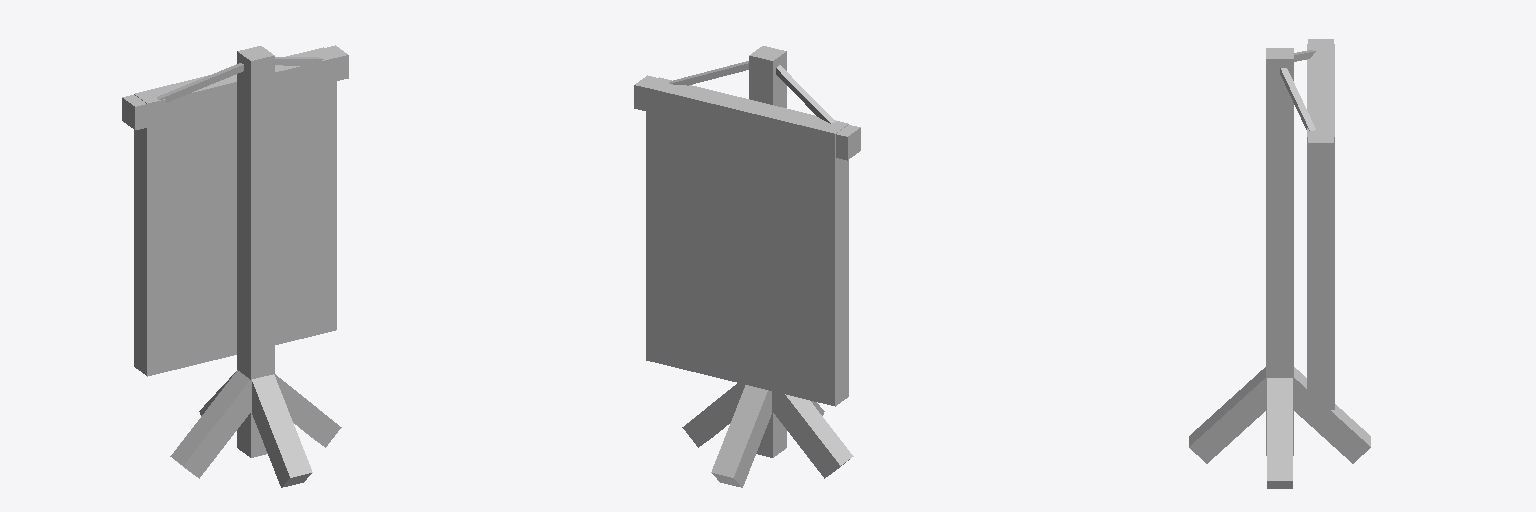
The model's file is Banner.obj.
3 views of the same model, side by side, from view 1: azimuth 30°, elevation 25°; view 2: azimuth 150°, elevation 25°; view 3: azimuth 270°, elevation 25° (orthographic).
Parts seen in each view (by area): view 1: Banner, cuboid; view 2: Banner, cuboid; view 3: cuboid, Banner.
Boxes of the visible parts, <box> form: Banner: <box>134,47,336,376</box>; cuboid: <box>122,45,348,487</box>; Banner: <box>646,77,848,406</box>; cuboid: <box>634,46,860,487</box>; cuboid: <box>1189,39,1370,488</box>; Banner: <box>1307,44,1334,409</box>.
Size of the model in its own units: 1.12 by 2.04 by 0.834.